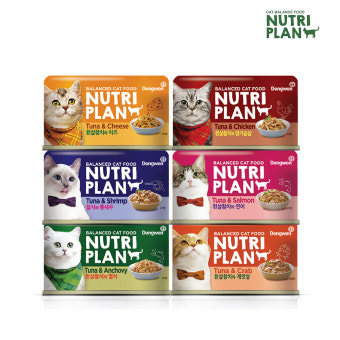paper: (45, 73, 175, 153), (42, 223, 174, 300), (171, 75, 302, 152), (168, 153, 297, 227), (169, 224, 298, 297), (44, 153, 173, 224)
